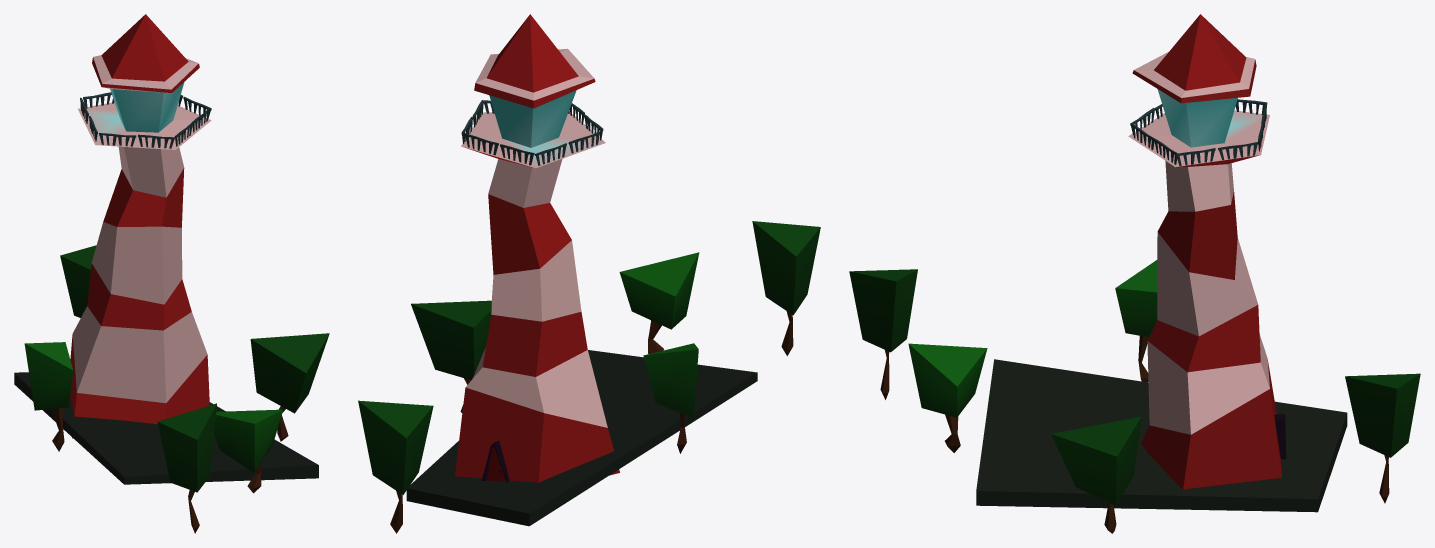
Rendered from e_lighthouse.fbx.
3 views of the same model, side by side, from view 1: azimuth 30°, elevation 25°; view 2: azimuth 150°, elevation 25°; view 3: azimuth 270°, elevation 25° (orthographic). The views are drawn at different scales.
Parts seen in each view (by area): view 1: e_lighthouse; view 2: e_lighthouse; view 3: e_lighthouse.
Boxes of the visible parts, box(x1,y1,x2,y2) form: e_lighthouse: box(14, 14, 329, 533); e_lighthouse: box(358, 14, 820, 533); e_lighthouse: box(849, 14, 1420, 533).
Bounding box in the file's own units: 18.84 × 26.8 × 29.59.
